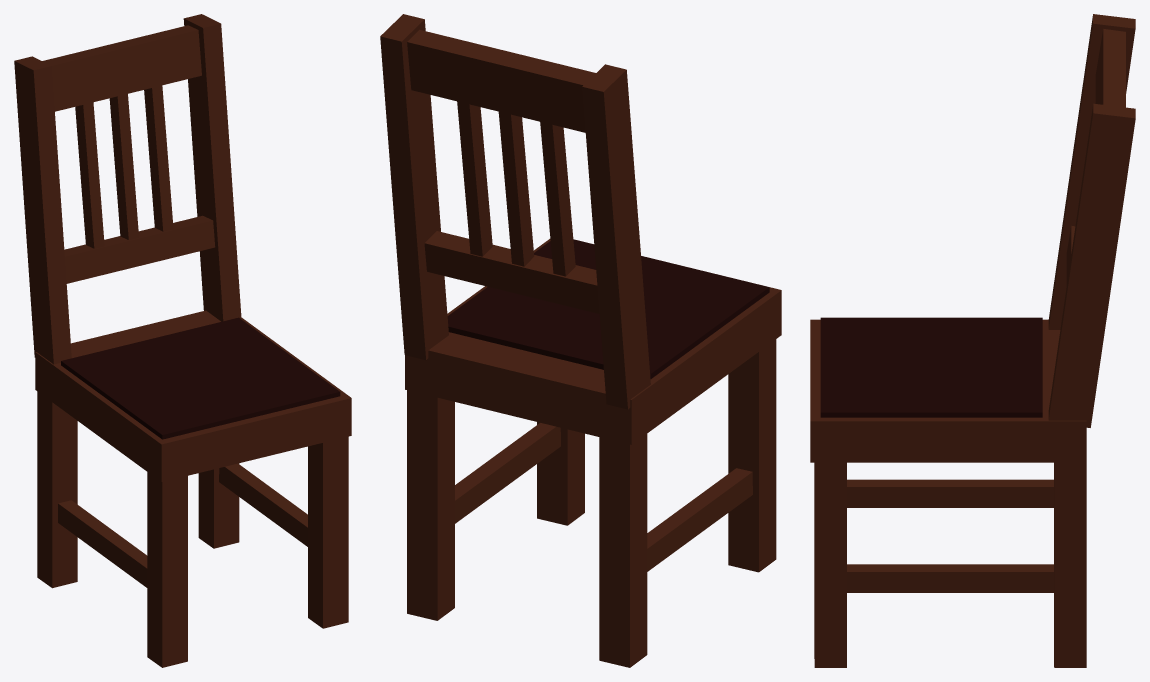
File: chair2.fbx
3 renders of one model, left to right at view 1: azimuth 30°, elevation 25°; view 2: azimuth 150°, elevation 25°; view 3: azimuth 270°, elevation 25°, orthographic. The views are drawn at different scales.
Visible parts, largest first — view 1: dessus, assise, Cube_3_1, Cube_3, Cube_3_3, Cube_6_3, Cube_6_1, Cube_6_2, Cube_3_2, Cube_6_4, Cube_6_5, Cube_3_4 (+3 smaller); view 2: assise, dessus, Cube_3_1, Cube_3, Cube_3_3, Cube_6_2, Cube_6, Cube_6_3, Cube_3_2, Cube_6_4, Cube_6_5, Cube_6_1 (+3 smaller); view 3: dessus, assise, Cube_3, Cube_6, Cube_6_1, Cube_6_4, Cube_6_5, Cube_3_1, Cube_3_3.
Boxes of the visible parts, box(x1,y1,x2,y2) form: dessus: box(61, 317, 340, 439); assise: box(35, 310, 351, 481); Cube_3_1: box(14, 56, 71, 364); Cube_3: box(183, 14, 241, 321); Cube_3_3: box(42, 25, 201, 111); Cube_6_3: box(147, 472, 187, 667); Cube_6_1: box(308, 436, 348, 628); Cube_6_2: box(37, 391, 77, 588); Cube_3_2: box(64, 215, 215, 283); Cube_6_4: box(58, 500, 147, 587); Cube_6_5: box(219, 463, 307, 546); Cube_3_4: box(75, 102, 104, 248); assise: box(405, 239, 781, 444); dessus: box(447, 239, 769, 378); Cube_3_1: box(582, 64, 650, 409); Cube_3: box(380, 14, 448, 359); Cube_3_3: box(407, 29, 595, 132); Cube_6_2: box(599, 434, 647, 667); Cube_6: box(407, 390, 454, 620); Cube_6_3: box(728, 339, 776, 572); Cube_3_2: box(424, 231, 599, 313); Cube_6_4: box(647, 468, 752, 571); Cube_6_5: box(455, 423, 560, 523); Cube_6_1: box(537, 422, 584, 525); dessus: box(820, 317, 1042, 417); assise: box(810, 319, 1086, 462); Cube_3: box(1048, 103, 1135, 427); Cube_6: box(1054, 462, 1086, 667); Cube_6_1: box(814, 462, 846, 667); Cube_6_4: box(847, 479, 1053, 507); Cube_6_5: box(847, 564, 1053, 592); Cube_3_1: box(1048, 14, 1135, 329); Cube_3_3: box(1095, 29, 1125, 107).
Bounding box in the file's own units: 1.11 × 2.82 × 1.5.
